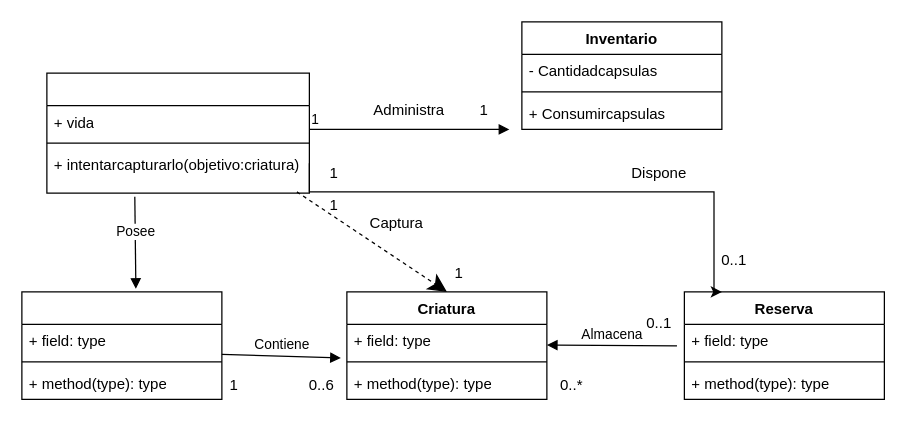
Image size: 906x426. Some labels were removed from this diagram. Here are the shapes that lost their labels. From the top down, the box of each, then its label:
(46, 72, 309, 193): Entrenador.
(21, 291, 222, 399): Equipo
